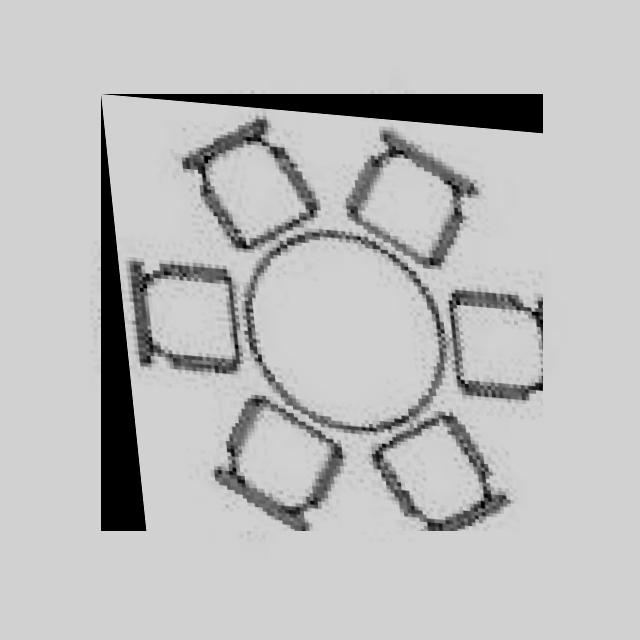table: (101, 94, 543, 531)
